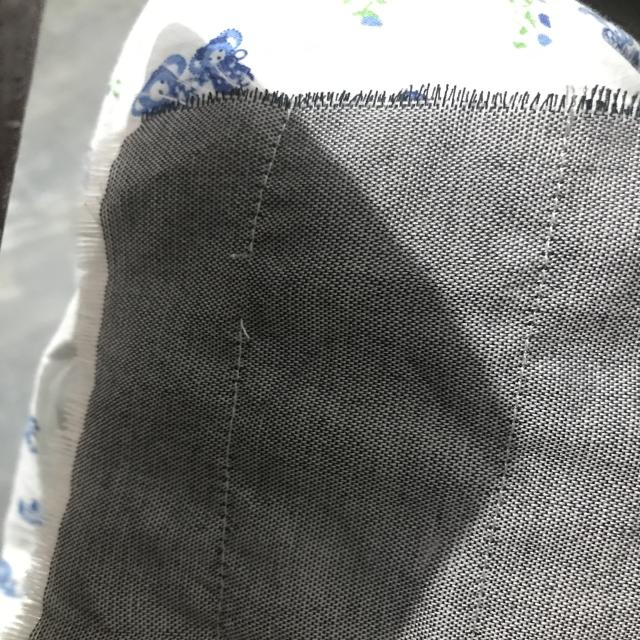broken: (219, 230, 270, 351)
good: (256, 128, 290, 207)
